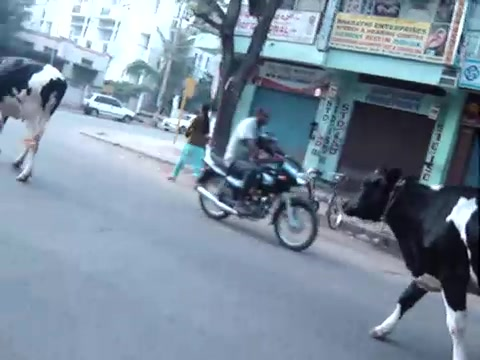cow: (341, 165, 480, 360)
